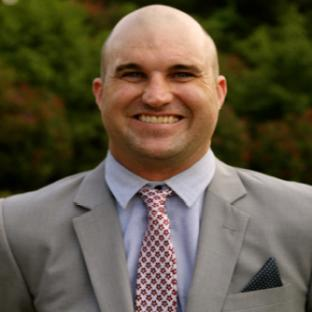Human: (0, 6, 311, 311)
